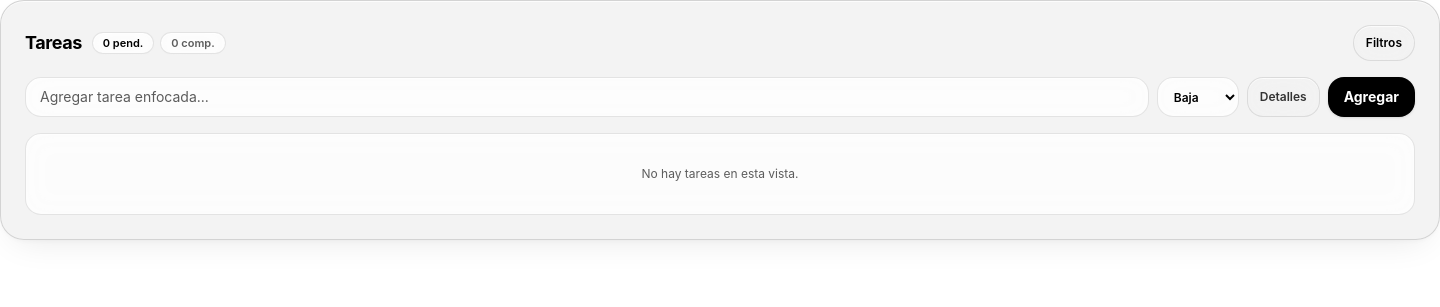
Scenario: UI Components Security & Input Validation › blocks XSS in TasksPanel and submits valid tasks cleanly
The width and height of the screenshot is (1440, 307).
Later steps or results of the test are not shown.
Step 1. Type "<img src=x onerror=alert(1)>" into the field named "Título de nueva tarea" → (587, 97), box [25,77,1149,117]
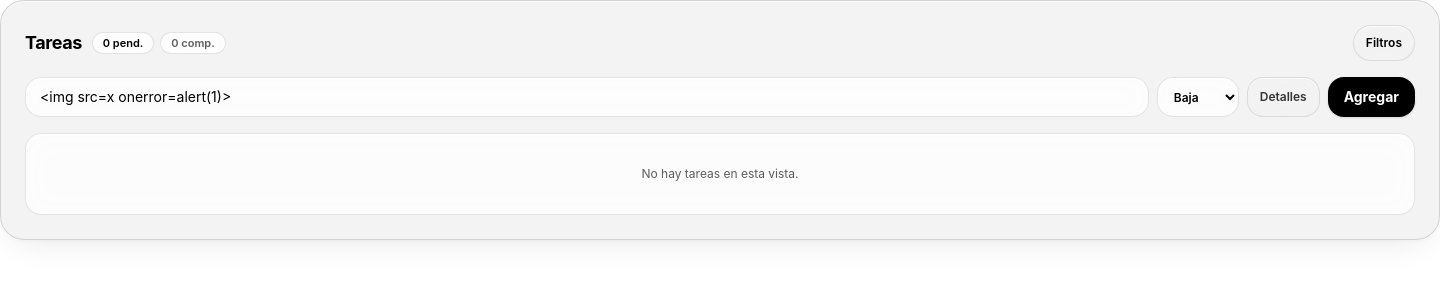
Step 2. Click the button "Agregar" → click(1371, 97), box [1328,77,1415,117]
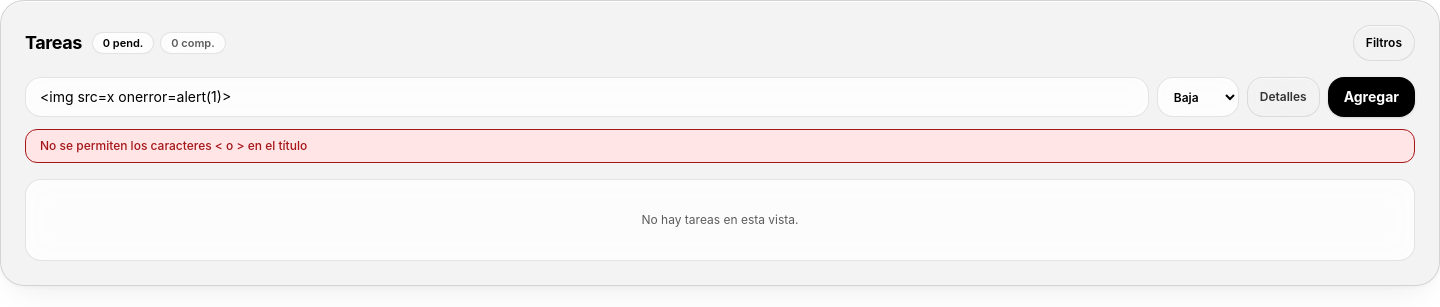
Expected: the message shows "No se permiten los caracteres < o >", [40,138,307,153]
